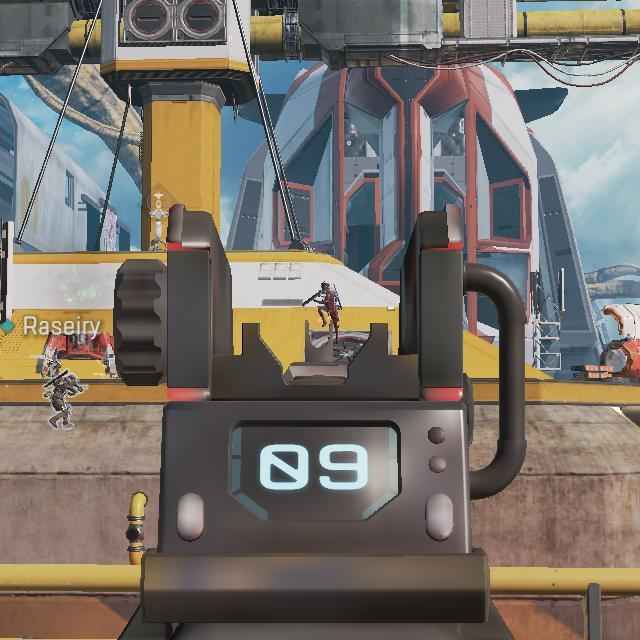avatar: (43, 370, 79, 430), (315, 279, 342, 328)
